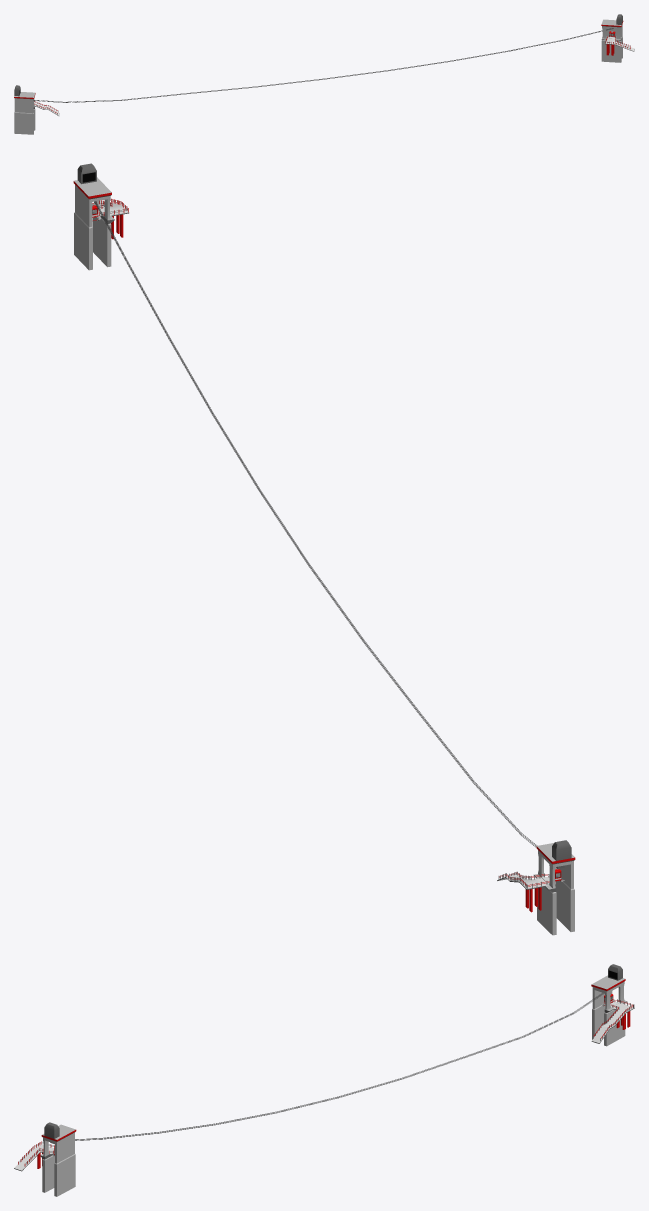
Rendered from bondinhos.fbx.
3 views of the same model, one above another, from view 1: azimuth 30°, elevation 25°; view 2: azimuth 150°, elevation 25°; view 3: azimuth 270°, elevation 25° (orthographic). The views are drawn at different scales.
Visible parts, largest first — view 1: pasted__pCube6 (×2), pasted__cabos; view 2: pasted__pCube6 (×2), pasted__cabos; view 3: pasted__pCube6 (×2), pasted__cabos.
Part boxes in pixels (box(x1,y1,x2,y2)): pasted__pCube6 (×2): box(14, 14, 634, 134); pasted__cabos: box(33, 28, 613, 102); pasted__pCube6 (×2): box(73, 163, 575, 935); pasted__cabos: box(94, 201, 537, 847); pasted__pCube6 (×2): box(14, 964, 634, 1196); pasted__cabos: box(75, 992, 604, 1140).
Bounding box in the file's own units: 259 × 84.64 × 210.
